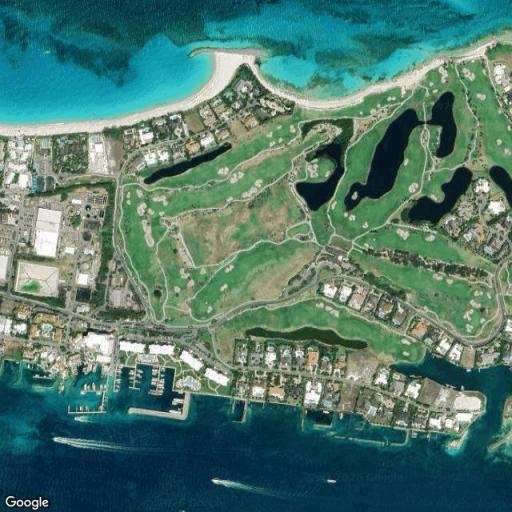ship: (53, 437, 139, 451), (212, 478, 273, 495), (212, 478, 241, 487), (73, 415, 93, 422), (74, 415, 87, 422), (172, 398, 183, 406), (147, 392, 165, 396), (151, 376, 158, 386), (58, 382, 64, 393), (116, 366, 122, 376), (212, 478, 222, 484), (150, 389, 165, 393), (170, 410, 182, 414), (129, 369, 135, 376), (80, 386, 85, 394), (327, 479, 336, 483), (151, 368, 160, 372), (412, 432, 417, 438), (137, 371, 146, 374), (92, 383, 95, 391), (323, 411, 330, 414), (116, 378, 123, 381), (80, 405, 83, 411), (340, 413, 343, 419), (128, 377, 134, 380), (461, 385, 464, 391), (27, 364, 31, 368), (159, 384, 164, 387), (159, 387, 165, 389), (160, 381, 165, 383)
